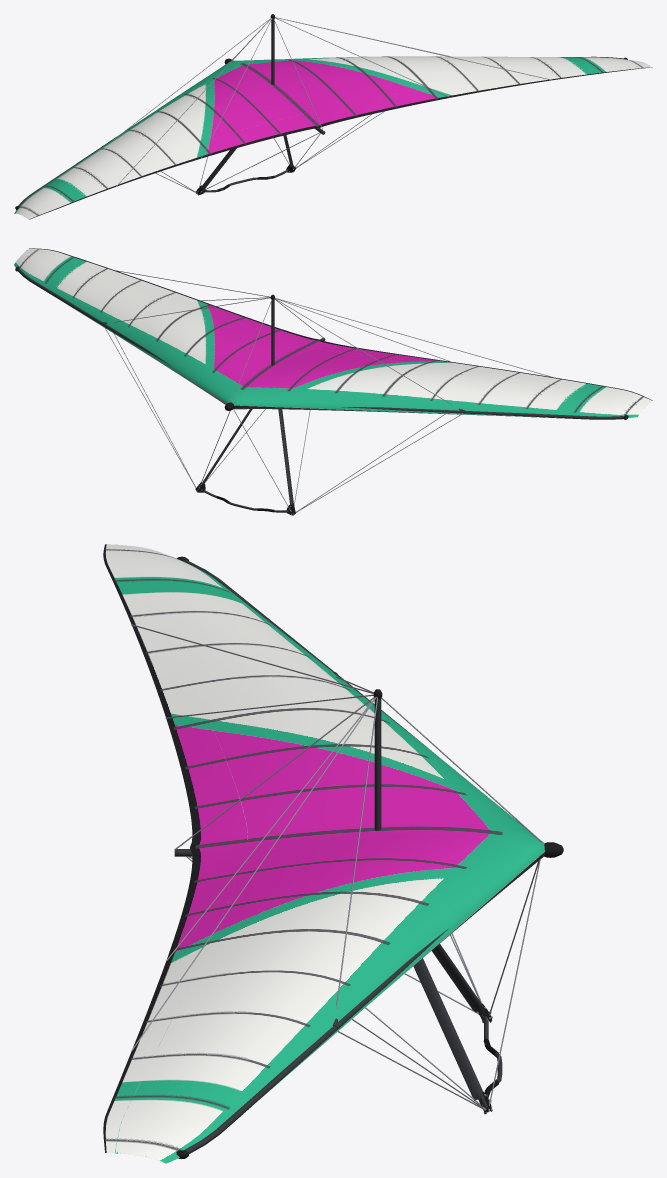
The model's file is glider_ww_u2.glb.
3 views of the same model, one above another, from view 1: azimuth 30°, elevation 25°; view 2: azimuth 150°, elevation 25°; view 3: azimuth 270°, elevation 25° (orthographic). The views are drawn at different scales.
Parts seen in each view (by area): view 1: Sail, Frame, ControlFrame; view 2: Sail, Frame, ControlFrame; view 3: Sail, Frame, ControlFrame.
Part boxes in pixels (<box>): Sail: <box>14,56,652,219</box>; Frame: <box>15,14,627,209</box>; ControlFrame: <box>155,111,384,195</box>; Sail: <box>14,248,652,418</box>; Frame: <box>15,266,628,419</box>; ControlFrame: <box>105,328,461,515</box>; Sail: <box>103,544,545,1163</box>; Frame: <box>131,556,563,1158</box>; ControlFrame: <box>186,856,540,1114</box>.
Bounding box in the file's own units: 9.5 × 2.78 × 3.04.
Materials: 8 (1 with a texture image).
